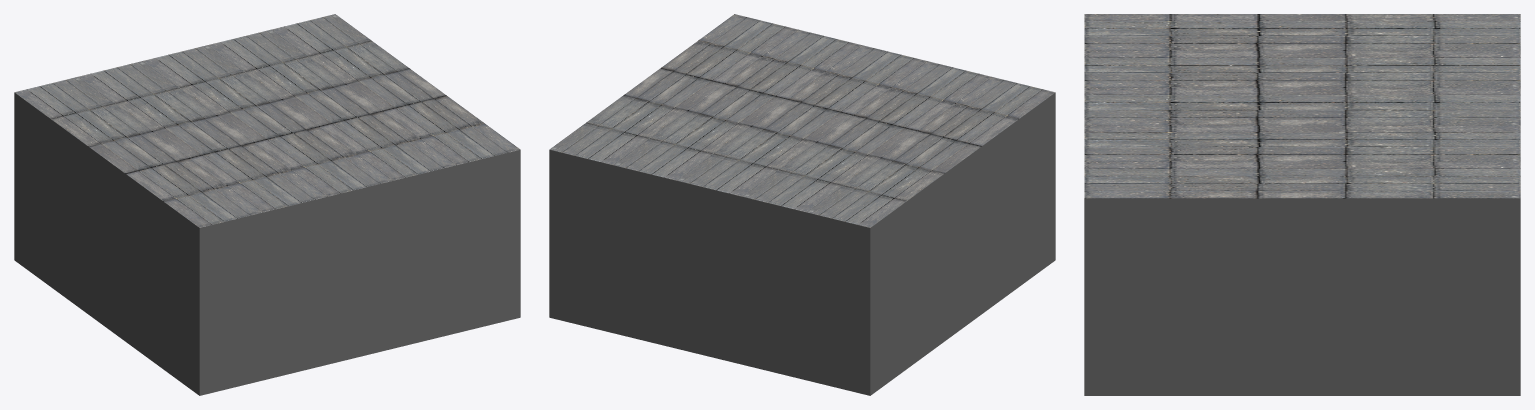
The model's file is Road_4.fbx.
The picture shows the model from 3 angles, left to right: view 1: azimuth 30°, elevation 25°; view 2: azimuth 150°, elevation 25°; view 3: azimuth 270°, elevation 25°; orthographic projection. The views are drawn at different scales.
Visible parts, largest first — view 1: mqo_mesh.001; view 2: mqo_mesh.001; view 3: mqo_mesh.001.
Boxes of the visible parts, box(x1,y1,x2,y2) form: mqo_mesh.001: box(14, 14, 520, 395); mqo_mesh.001: box(549, 14, 1055, 395); mqo_mesh.001: box(1084, 14, 1520, 395).
Bounding box in the file's own units: 5000 × 2500 × 5000.
